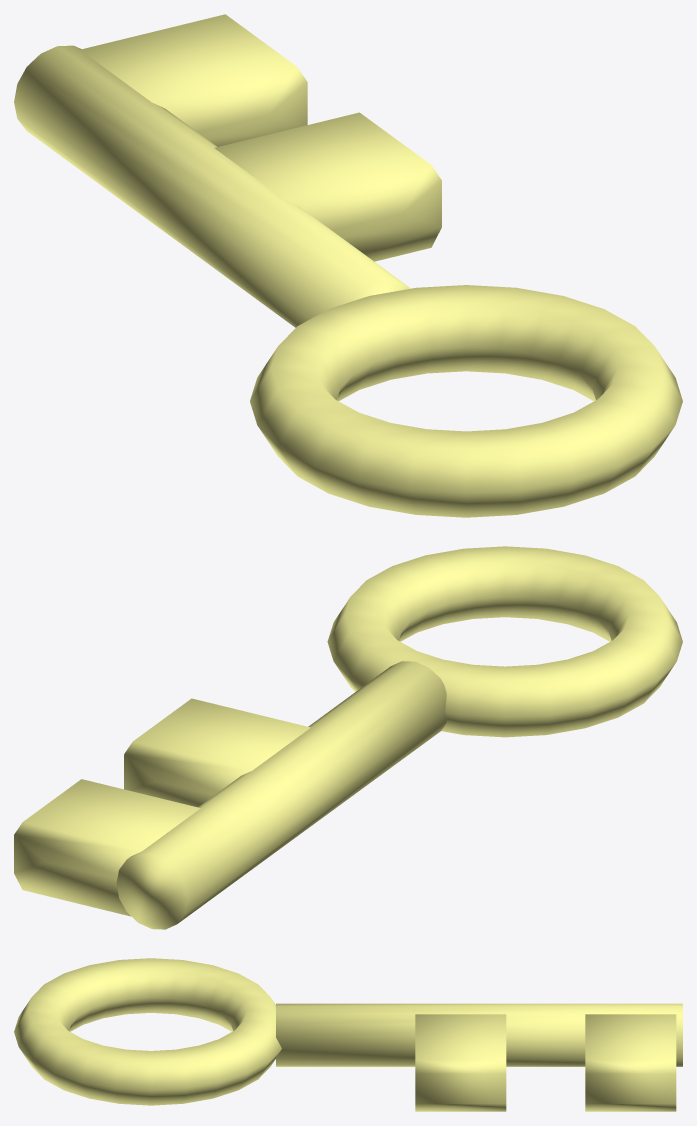
File: Llave Amarilla.fbx
3 renders of one model, top to bottom at view 1: azimuth 30°, elevation 25°; view 2: azimuth 150°, elevation 25°; view 3: azimuth 270°, elevation 25°, orthographic. The views are drawn at different scales.
Parts seen in each view (by area): view 1: Cube.057; view 2: Cube.057; view 3: Cube.057.
Boxes of the visible parts, x1,y1,x2,y2 form: Cube.057: (14,14,682,517); Cube.057: (14,546,682,929); Cube.057: (14,958,682,1111).
Bounding box in the file's own units: 17 × 3.93 × 41.46.
